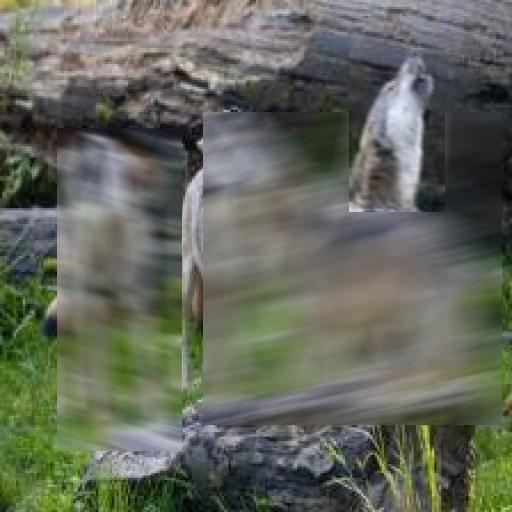wolf: (203, 112, 502, 425), (57, 128, 182, 451), (350, 50, 446, 212)
